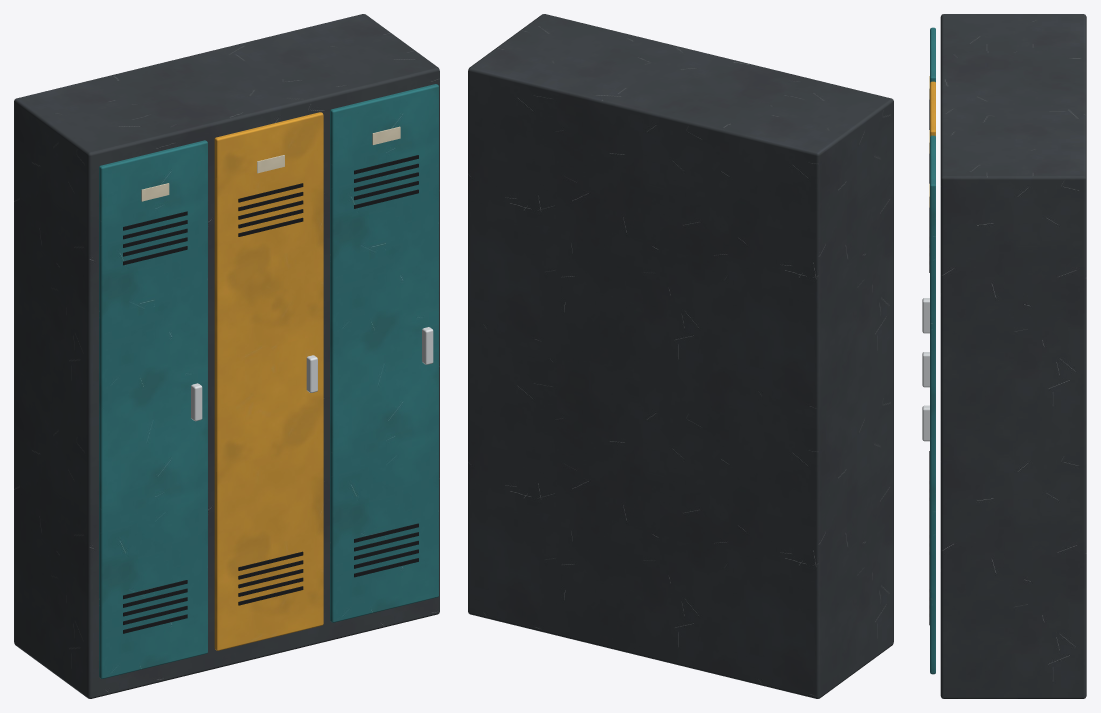
File: Lockers.glb
3 views of the same model, side by side, from view 1: azimuth 30°, elevation 25°; view 2: azimuth 150°, elevation 25°; view 3: azimuth 270°, elevation 25° (orthographic). The views are drawn at different scales.
Visible parts, largest first — view 1: Lockers_Body, Lockers_Door2, Lockers_Door1, Lockers_Door3; view 2: Lockers_Body; view 3: Lockers_Body, Lockers_Door3, Lockers_Door1, Lockers_Door2.
Part boxes in pixels (bbox=[...]): Lockers_Body: bbox=[14, 14, 439, 698]; Lockers_Door2: bbox=[214, 112, 323, 650]; Lockers_Door1: bbox=[99, 140, 207, 678]; Lockers_Door3: bbox=[330, 84, 438, 622]; Lockers_Body: bbox=[468, 14, 893, 698]; Lockers_Body: bbox=[940, 14, 1086, 698]; Lockers_Door3: bbox=[922, 135, 935, 674]; Lockers_Door1: bbox=[922, 27, 935, 504]; Lockers_Door2: bbox=[922, 81, 935, 558].
Bounding box in the file's own units: 1.28 × 1.9 × 0.54.
6 materials, 4 textured.
